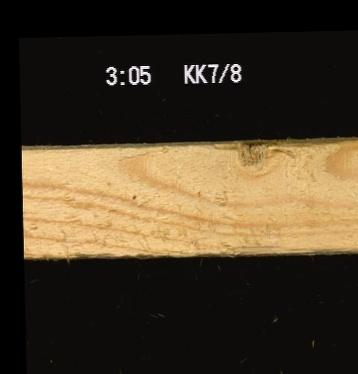edge_knot: (237, 139, 281, 178)
wave: (196, 239, 310, 257)
